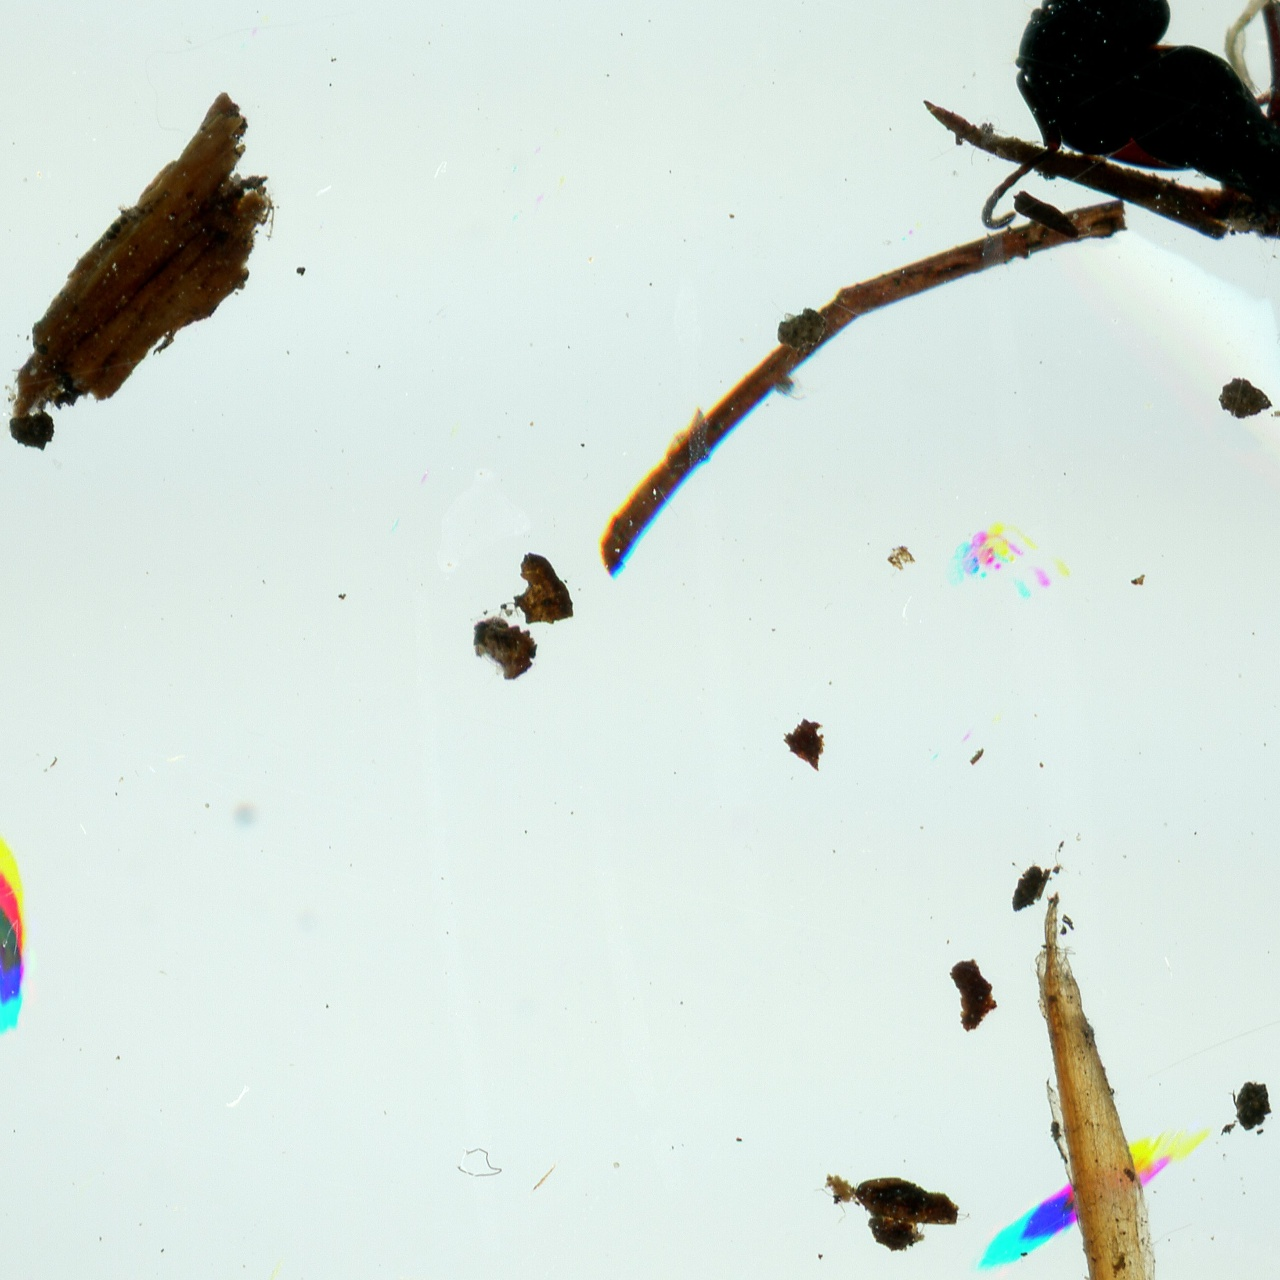arthropod: (917, 0, 1280, 481), (0, 835, 29, 1037)
